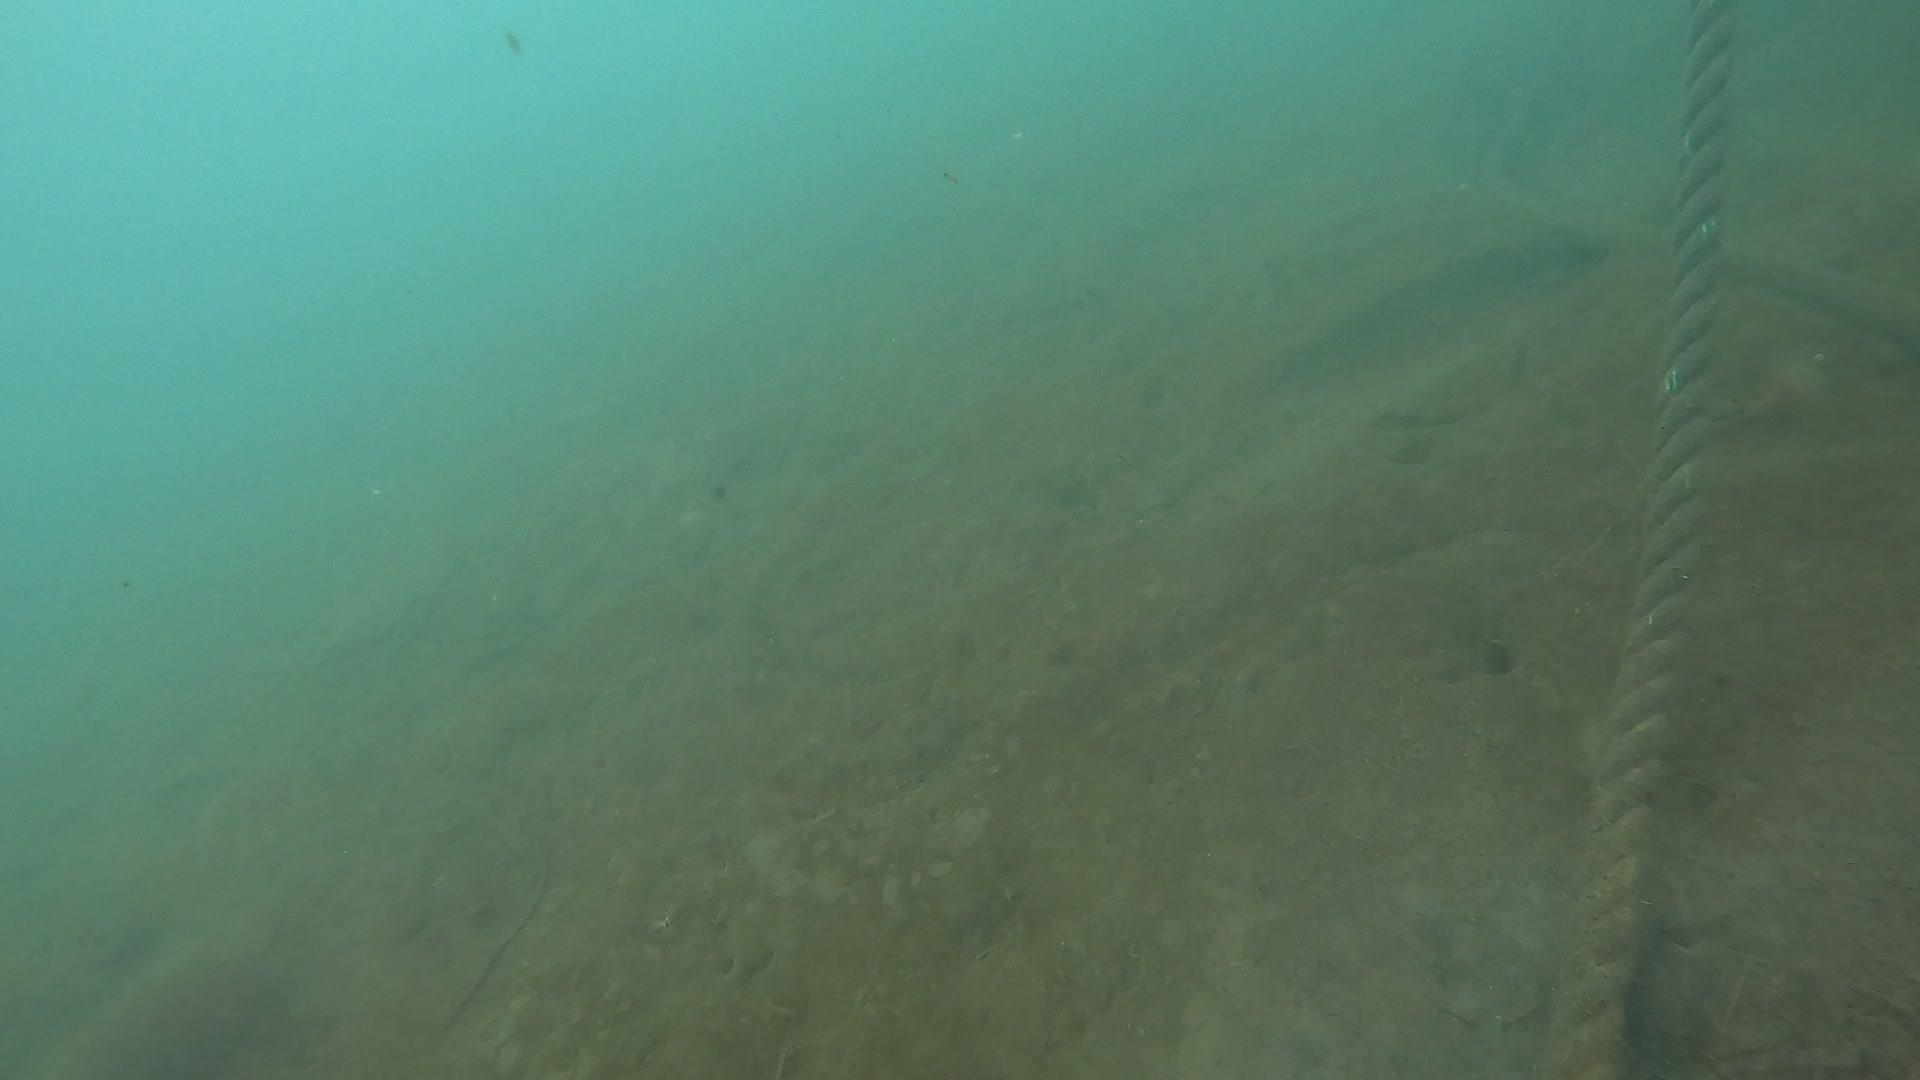rope: (1536, 0, 1741, 1080)
